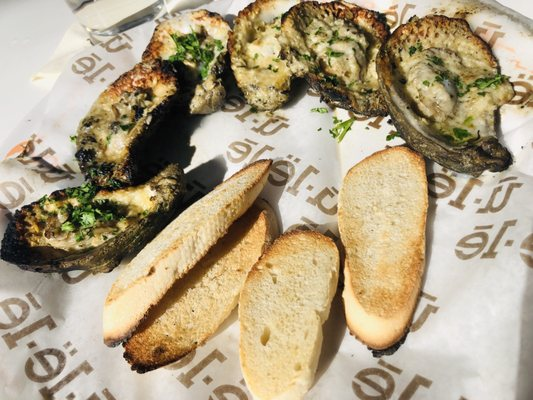soup: (104, 158, 274, 371)
